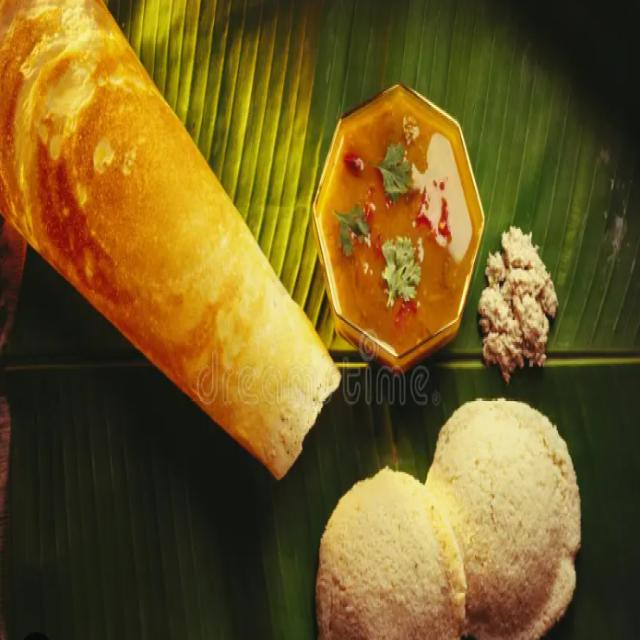DOSA: (0, 0, 341, 483)
IDLI: (315, 400, 590, 638)
SAMBAR: (317, 86, 482, 364)
